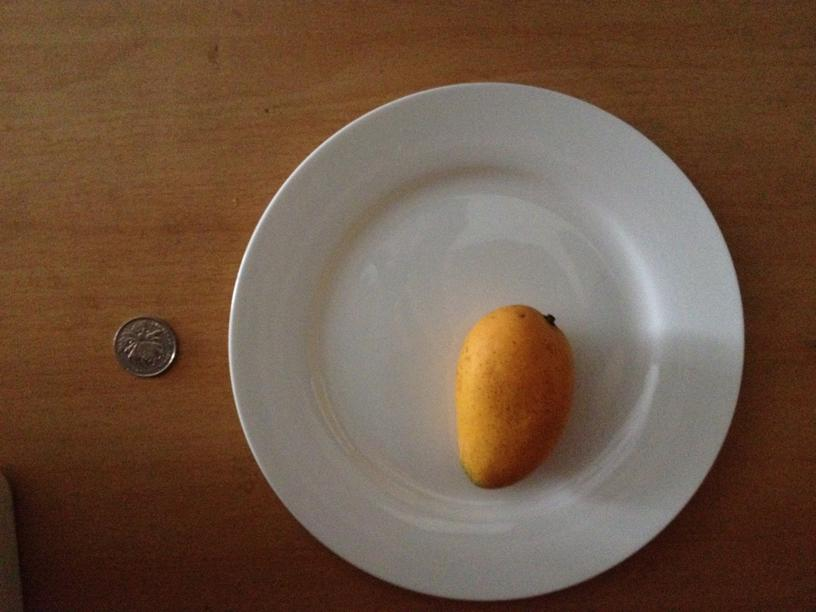coin: (114, 316, 178, 377)
mango: (461, 302, 573, 485)
